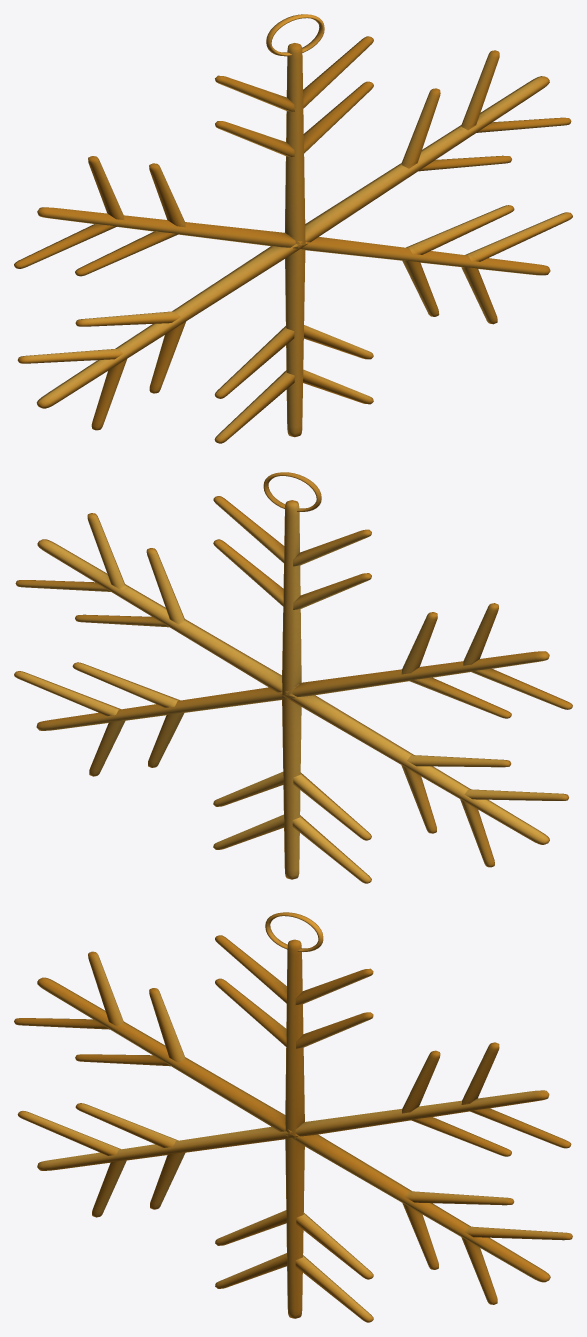
3 renders of one model, top to bottom at view 1: azimuth 30°, elevation 25°; view 2: azimuth 150°, elevation 25°; view 3: azimuth 330°, elevation 25°, orthographic. The views are drawn at different scales.
Parts seen in each view (by area): view 1: V5 Christmas Collection2.10_V5 Christmas Collection2_0.001; view 2: V5 Christmas Collection2.10_V5 Christmas Collection2_0.001; view 3: V5 Christmas Collection2.10_V5 Christmas Collection2_0.001.
Boxes of the visible parts, x1,y1,x2,y2 form: V5 Christmas Collection2.10_V5 Christmas Collection2_0.001: (14, 14, 572, 443); V5 Christmas Collection2.10_V5 Christmas Collection2_0.001: (14, 472, 572, 883); V5 Christmas Collection2.10_V5 Christmas Collection2_0.001: (14, 912, 572, 1322).
Size of the model in its own units: 9.57 by 6.77 by 0.508.
Materials: 1 (1 with a texture image).
